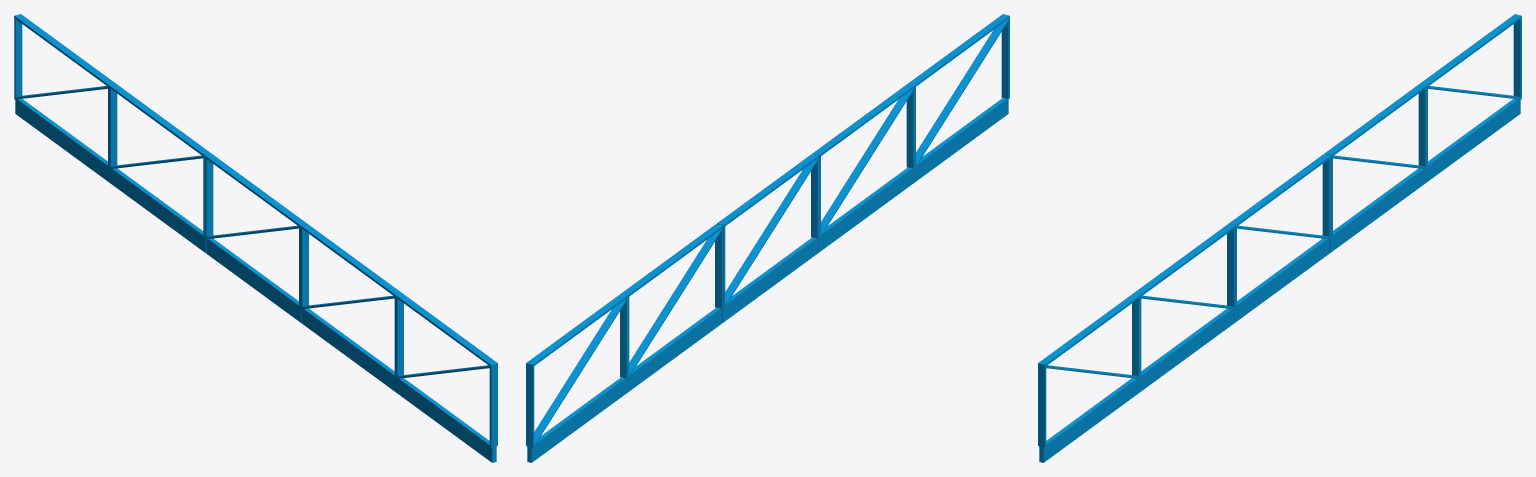
The model's file is Metal_Floor_Rail_x5.fbx.
3 renders of one model, left to right at view 1: azimuth 30°, elevation 25°; view 2: azimuth 150°, elevation 25°; view 3: azimuth 330°, elevation 25°, orthographic.
Parts seen in each view (by area): view 1: Metal_Floor_Rail_x5; view 2: Metal_Floor_Rail_x5; view 3: Metal_Floor_Rail_x5.
Part boxes in pixels (left/top/right/bottom): Metal_Floor_Rail_x5: left=14, top=14, right=497, bottom=462; Metal_Floor_Rail_x5: left=526, top=14, right=1009, bottom=462; Metal_Floor_Rail_x5: left=1038, top=14, right=1521, bottom=462.
Size of the model in its own units: 6.41 by 85.47 by 750.
